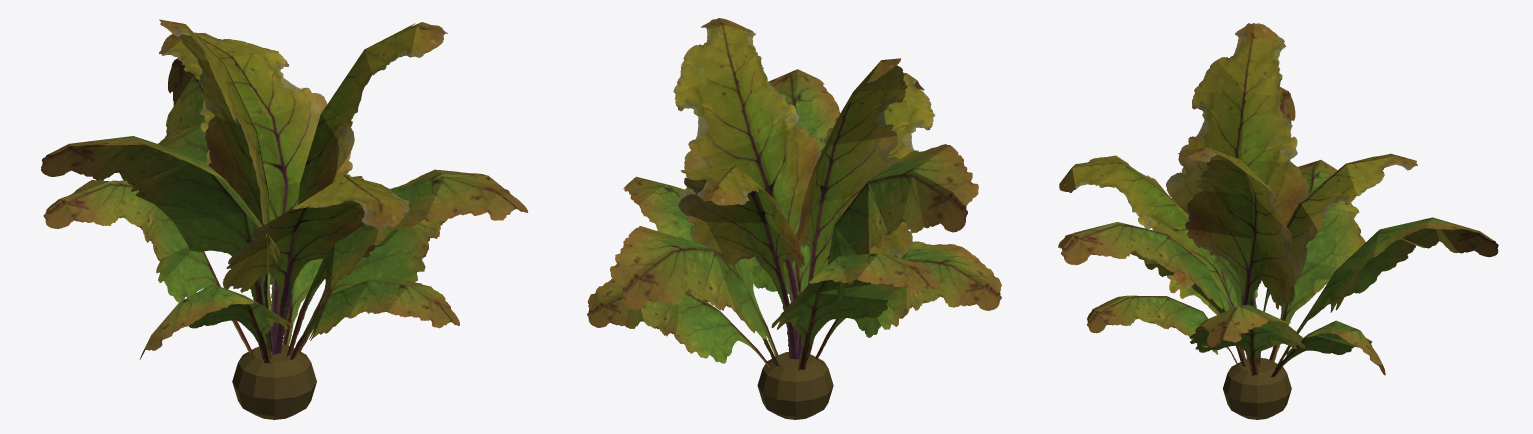
File: P_Herb_00325.obj
3 views of the same model, side by side, from view 1: azimuth 30°, elevation 25°; view 2: azimuth 150°, elevation 25°; view 3: azimuth 270°, elevation 25° (orthographic). The views are drawn at different scales.
Size of the model in its own units: 0.6699 by 0.5963 by 0.7358.
1 material, 1 textured.
